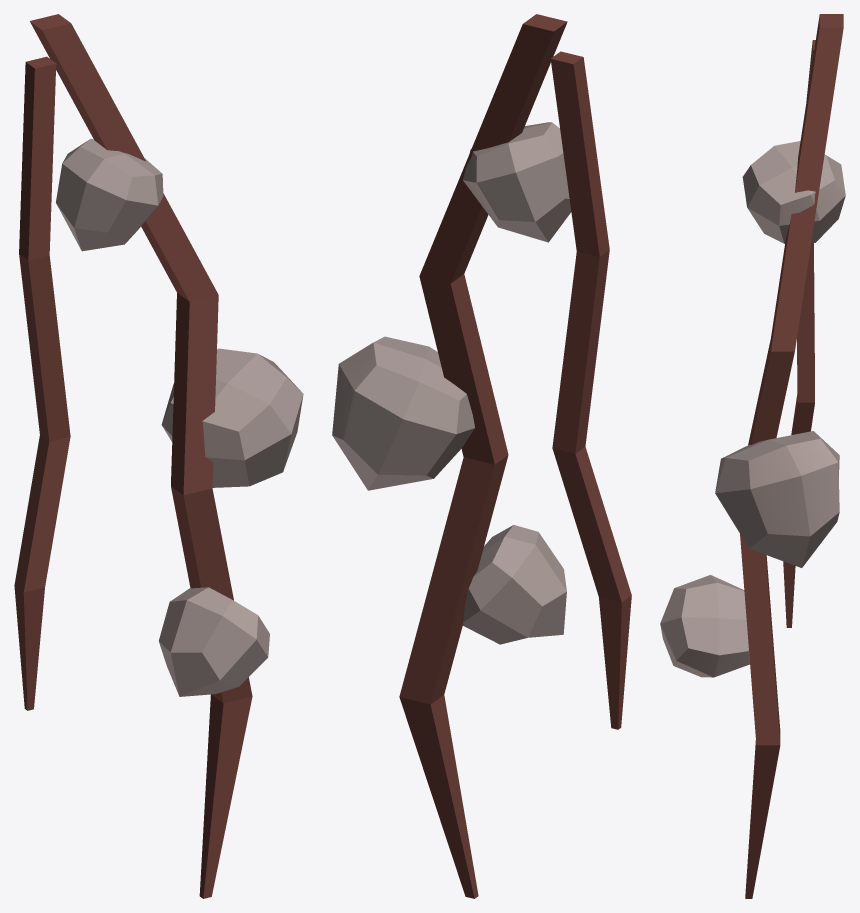
Rendered from Raizes.fbx.
3 renders of one model, left to right at view 1: azimuth 30°, elevation 25°; view 2: azimuth 150°, elevation 25°; view 3: azimuth 270°, elevation 25°, orthographic. The views are drawn at different scales.
Visible parts, largest first — view 1: Raizes; view 2: Raizes; view 3: Raizes.
Boxes of the visible parts, x1,y1,x2,y2 form: Raizes: (14, 14, 303, 898); Raizes: (332, 14, 631, 898); Raizes: (660, 14, 845, 898).
Size of the model in its own units: 62.14 by 39.5 by 194.
